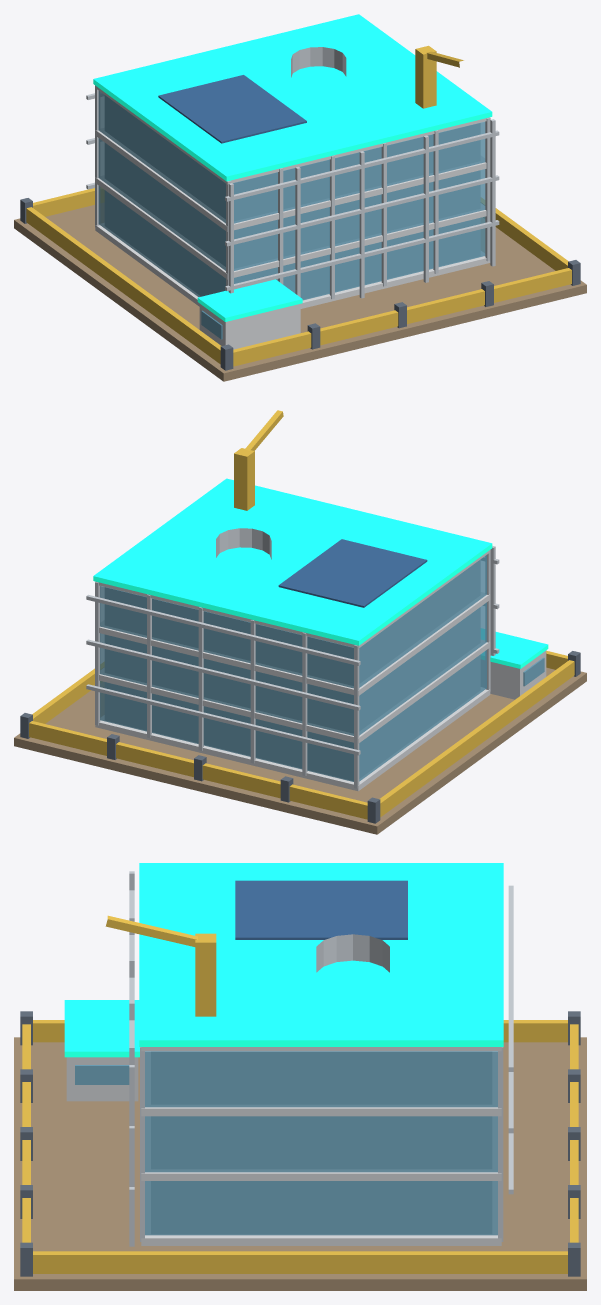
File: stage_5_finishing.glb
3 renders of one model, top to bottom at view 1: azimuth 30°, elevation 25°; view 2: azimuth 150°, elevation 25°; view 3: azimuth 270°, elevation 25°, orthographic. The views are drawn at different scales.
Visible parts, largest first — view 1: stage_5_finishing; view 2: stage_5_finishing; view 3: stage_5_finishing.
Boxes of the visible parts, x1,y1,x2,y2 form: stage_5_finishing: (14, 14, 586, 381); stage_5_finishing: (14, 410, 586, 834); stage_5_finishing: (14, 863, 586, 1290).
Size of the model in its own units: 2.72 by 1.64 by 2.72.
